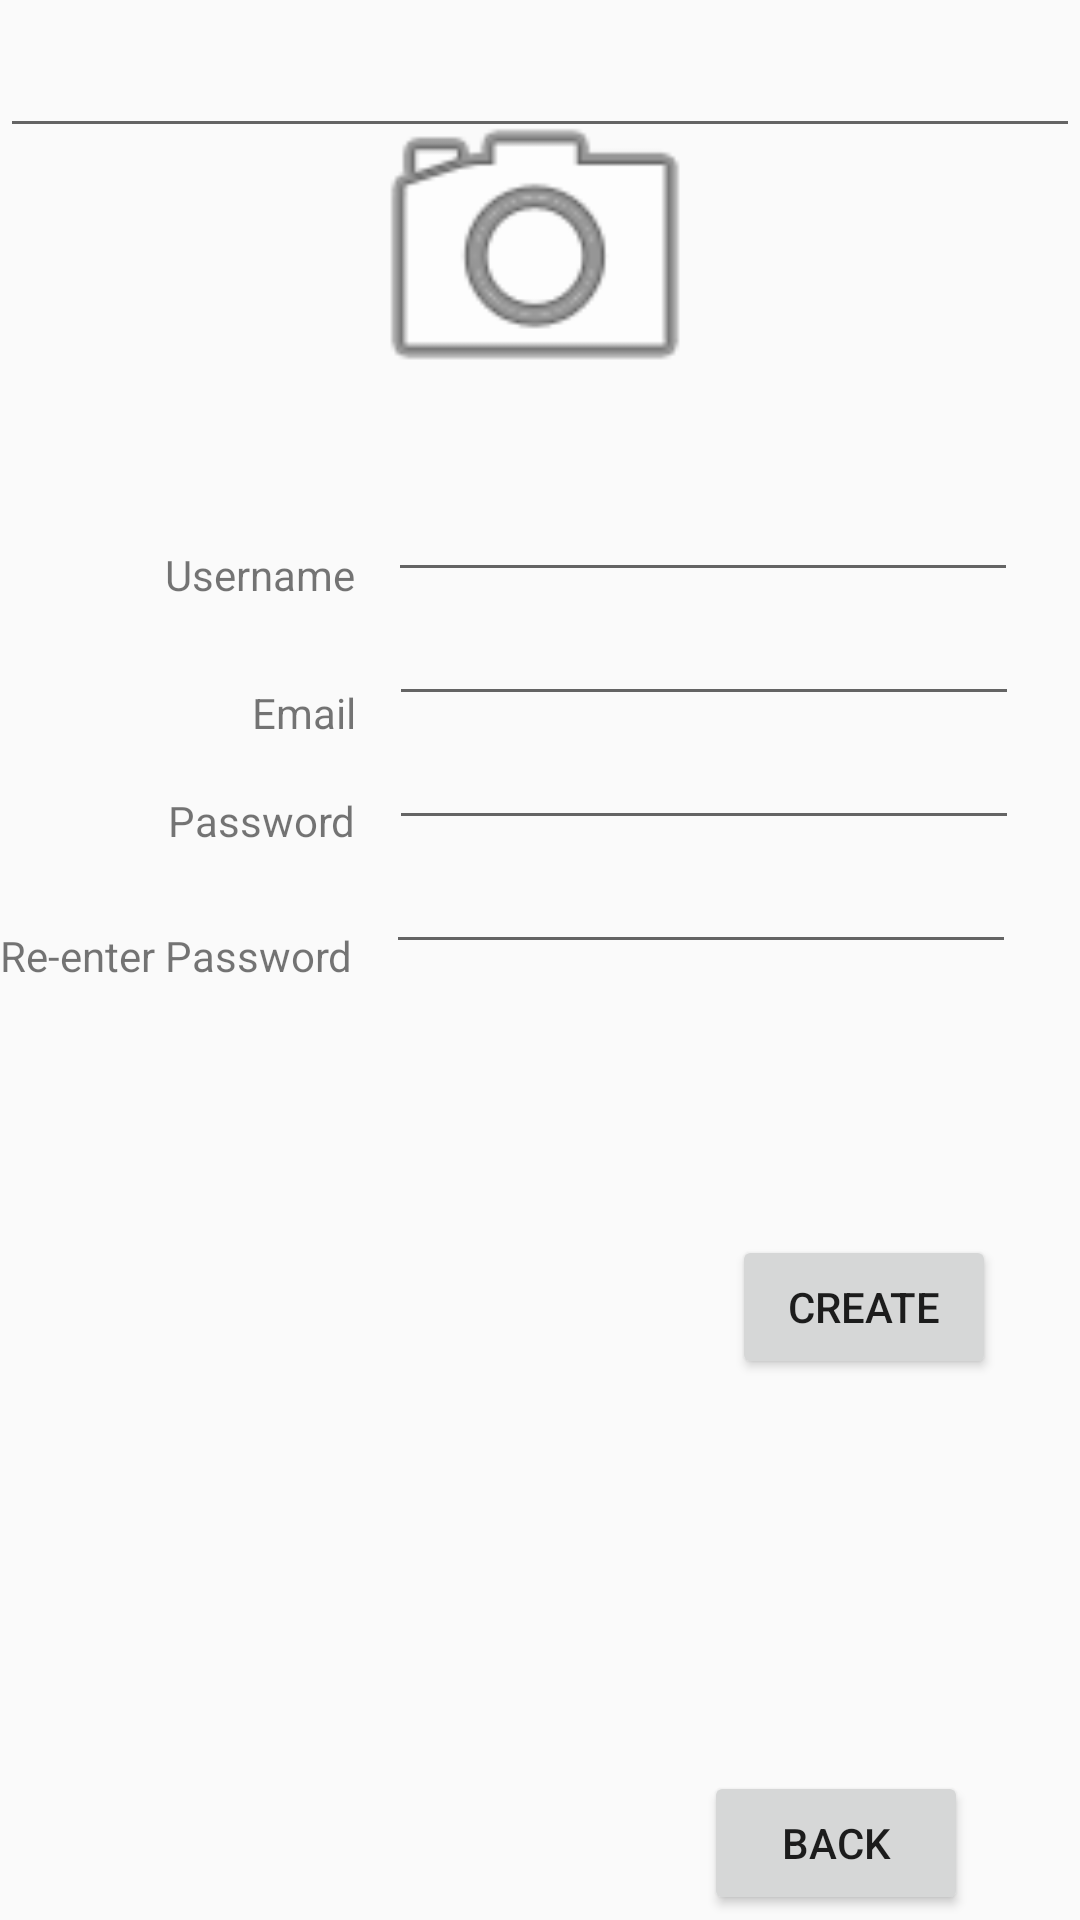

Screen size 1080*1920. Icon name, then its center in pixels as (x,y):
camera: (535,244)
